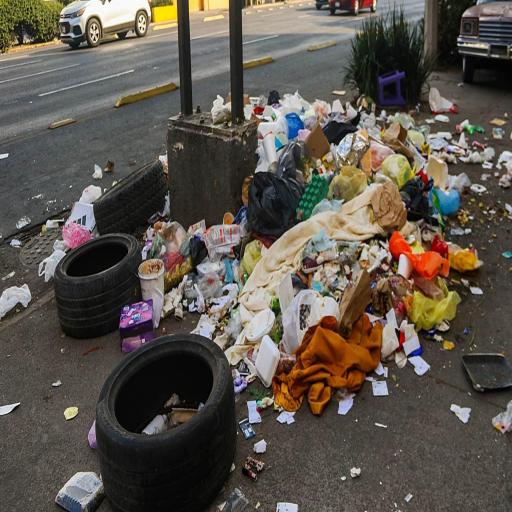Basura_fuera: (95, 91, 482, 512)
contenedor_lleno: (0, 106, 369, 306)
